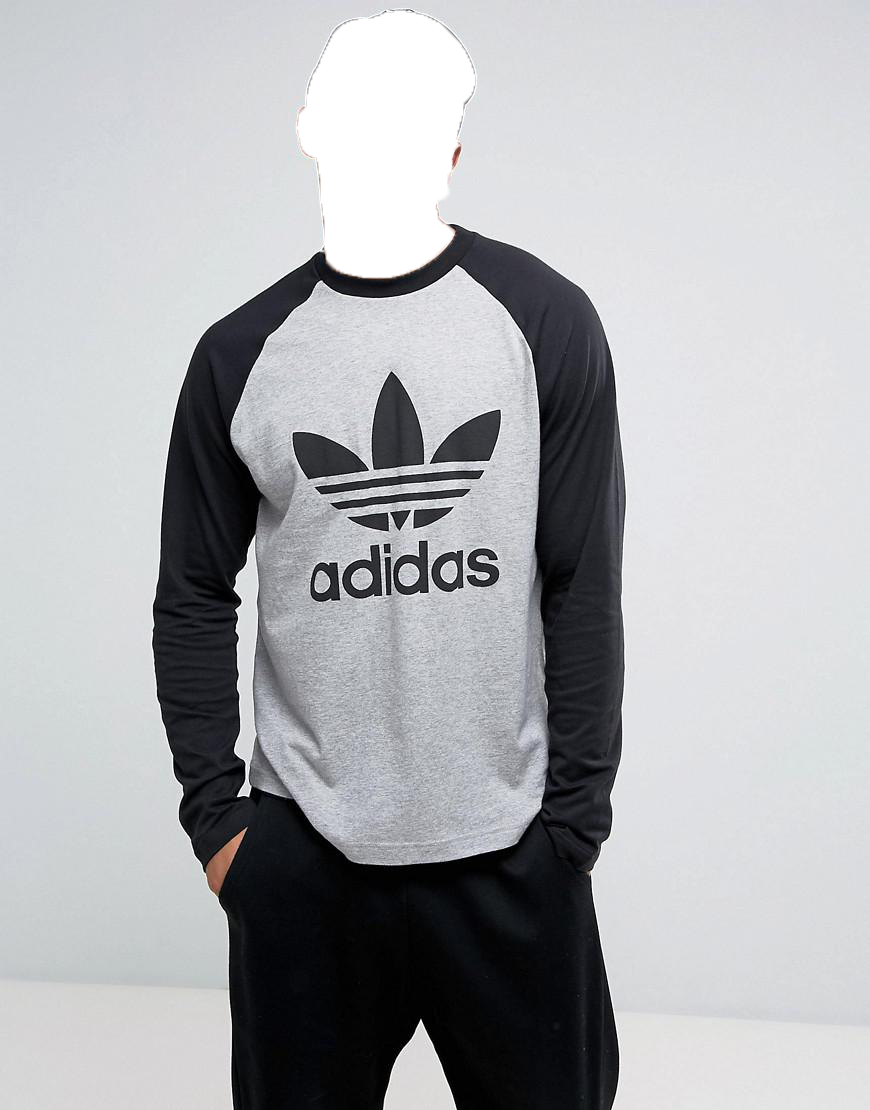teeshirt: (144, 225, 646, 861)
